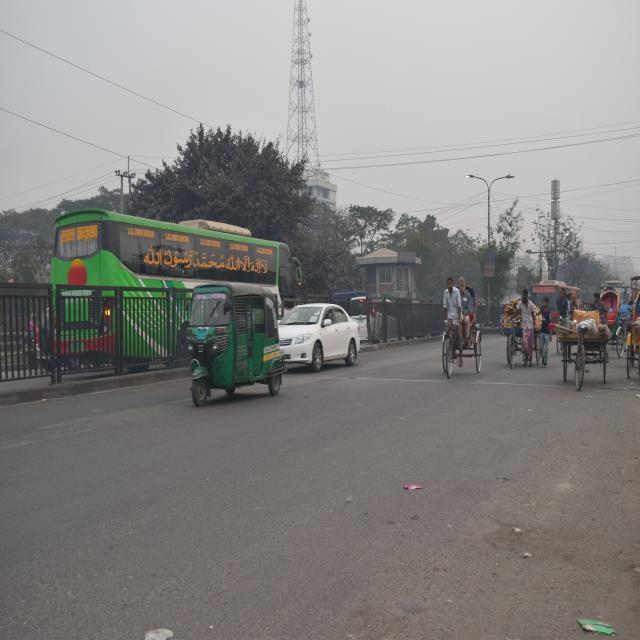bus: (51, 207, 288, 364), (534, 282, 579, 324)
car: (281, 305, 361, 371)
